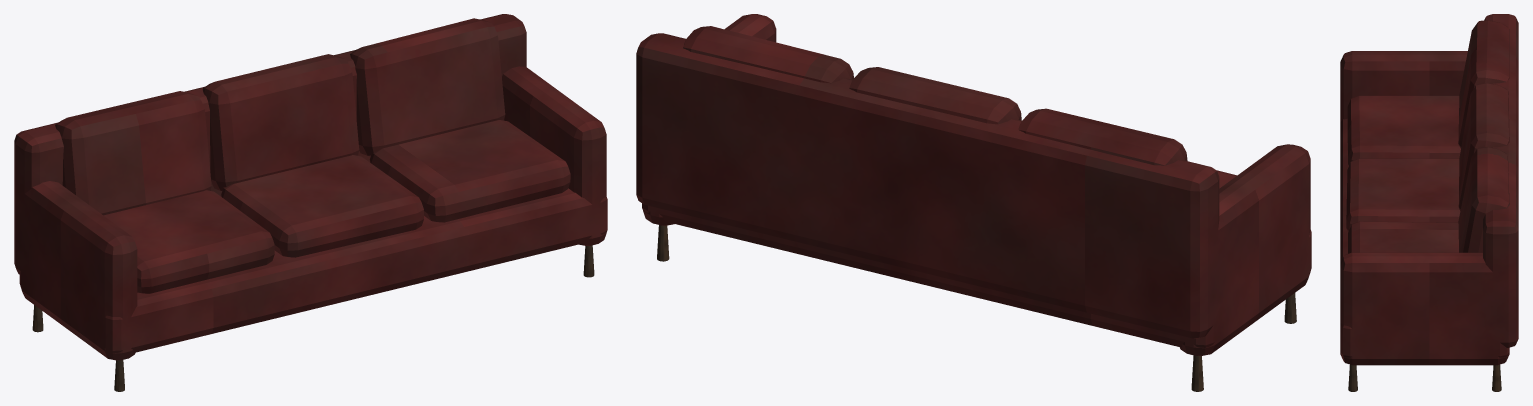
Rendered from L01_sofa_3seater_v1.glb.
3 views of the same model, side by side, from view 1: azimuth 30°, elevation 25°; view 2: azimuth 150°, elevation 25°; view 3: azimuth 270°, elevation 25° (orthographic). The views are drawn at different scales.
Parts seen in each view (by area): view 1: L01_sofa_3seater_v1; view 2: L01_sofa_3seater_v1; view 3: L01_sofa_3seater_v1.
Boxes of the visible parts, left/top/right/bottom form: L01_sofa_3seater_v1: left=14, top=14, right=607, bottom=391; L01_sofa_3seater_v1: left=636, top=14, right=1311, bottom=391; L01_sofa_3seater_v1: left=1340, top=14, right=1518, bottom=391.
Size of the model in its own units: 2 by 0.7874 by 0.702.
3 materials, 3 textured.
